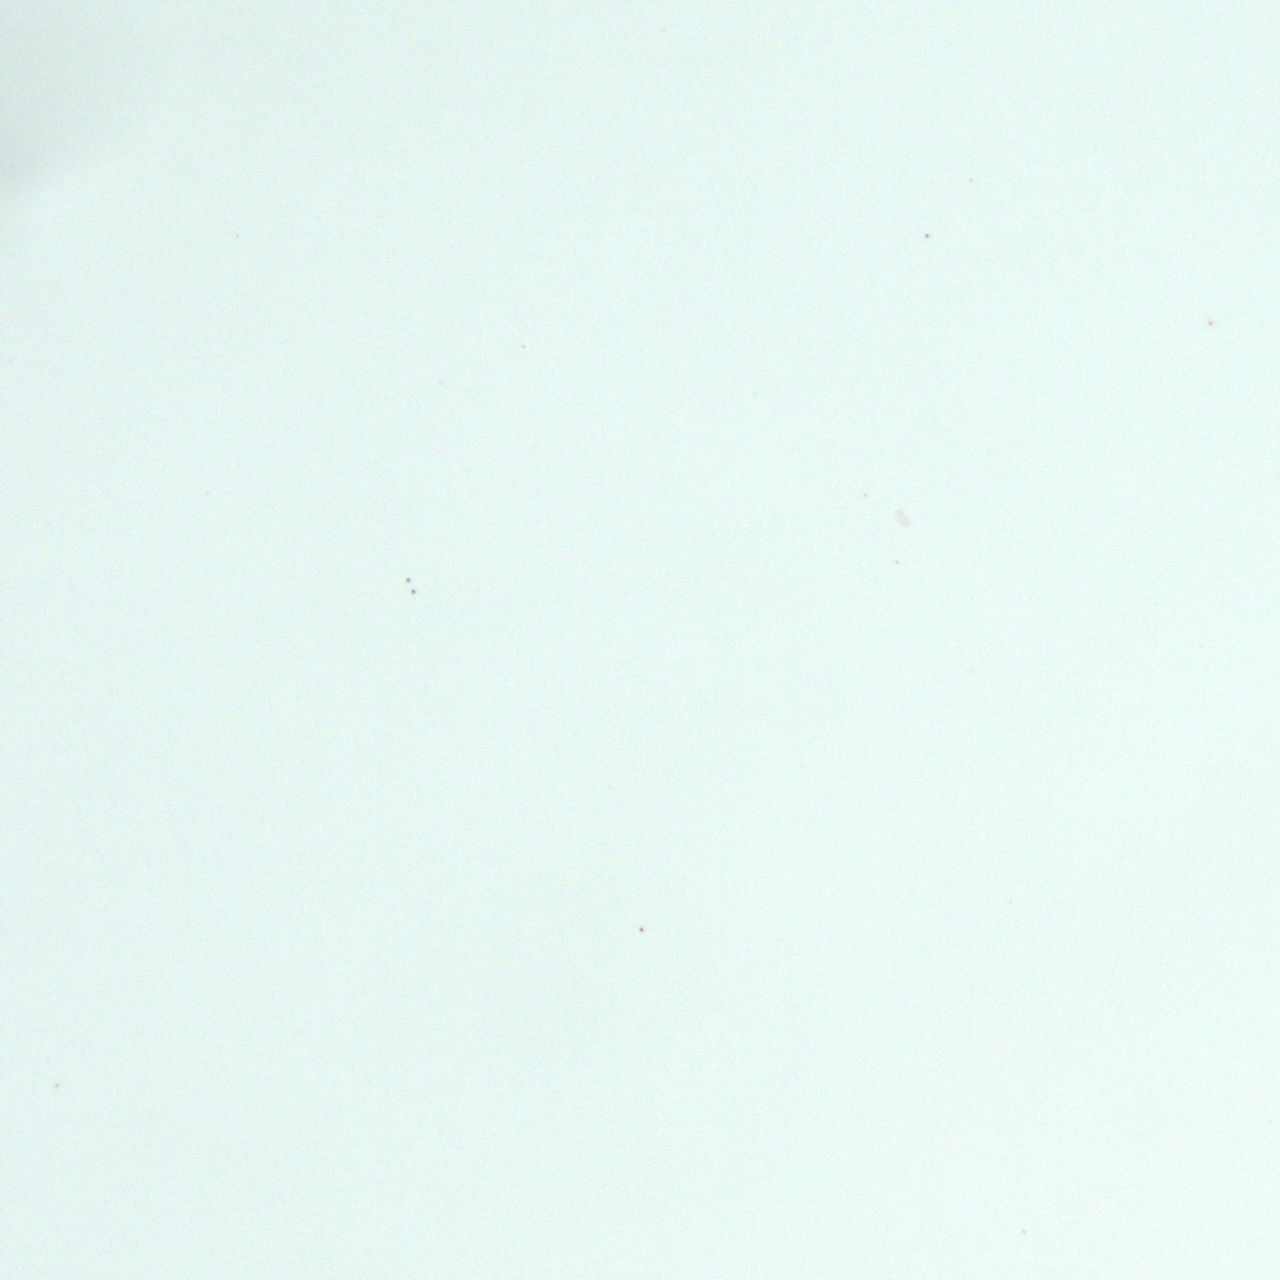dust: (406, 577, 410, 583), (639, 926, 644, 931), (924, 233, 928, 237), (411, 588, 414, 594)
